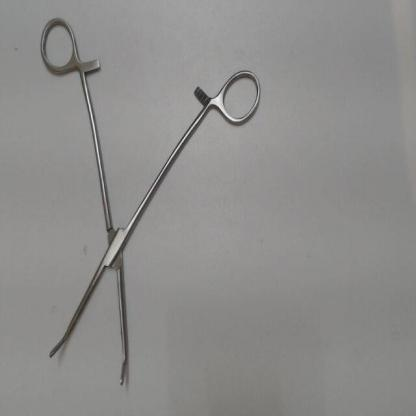Lahey Forceps: (34, 11, 266, 390)
